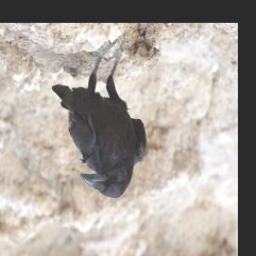Crow: (51, 43, 146, 200)
